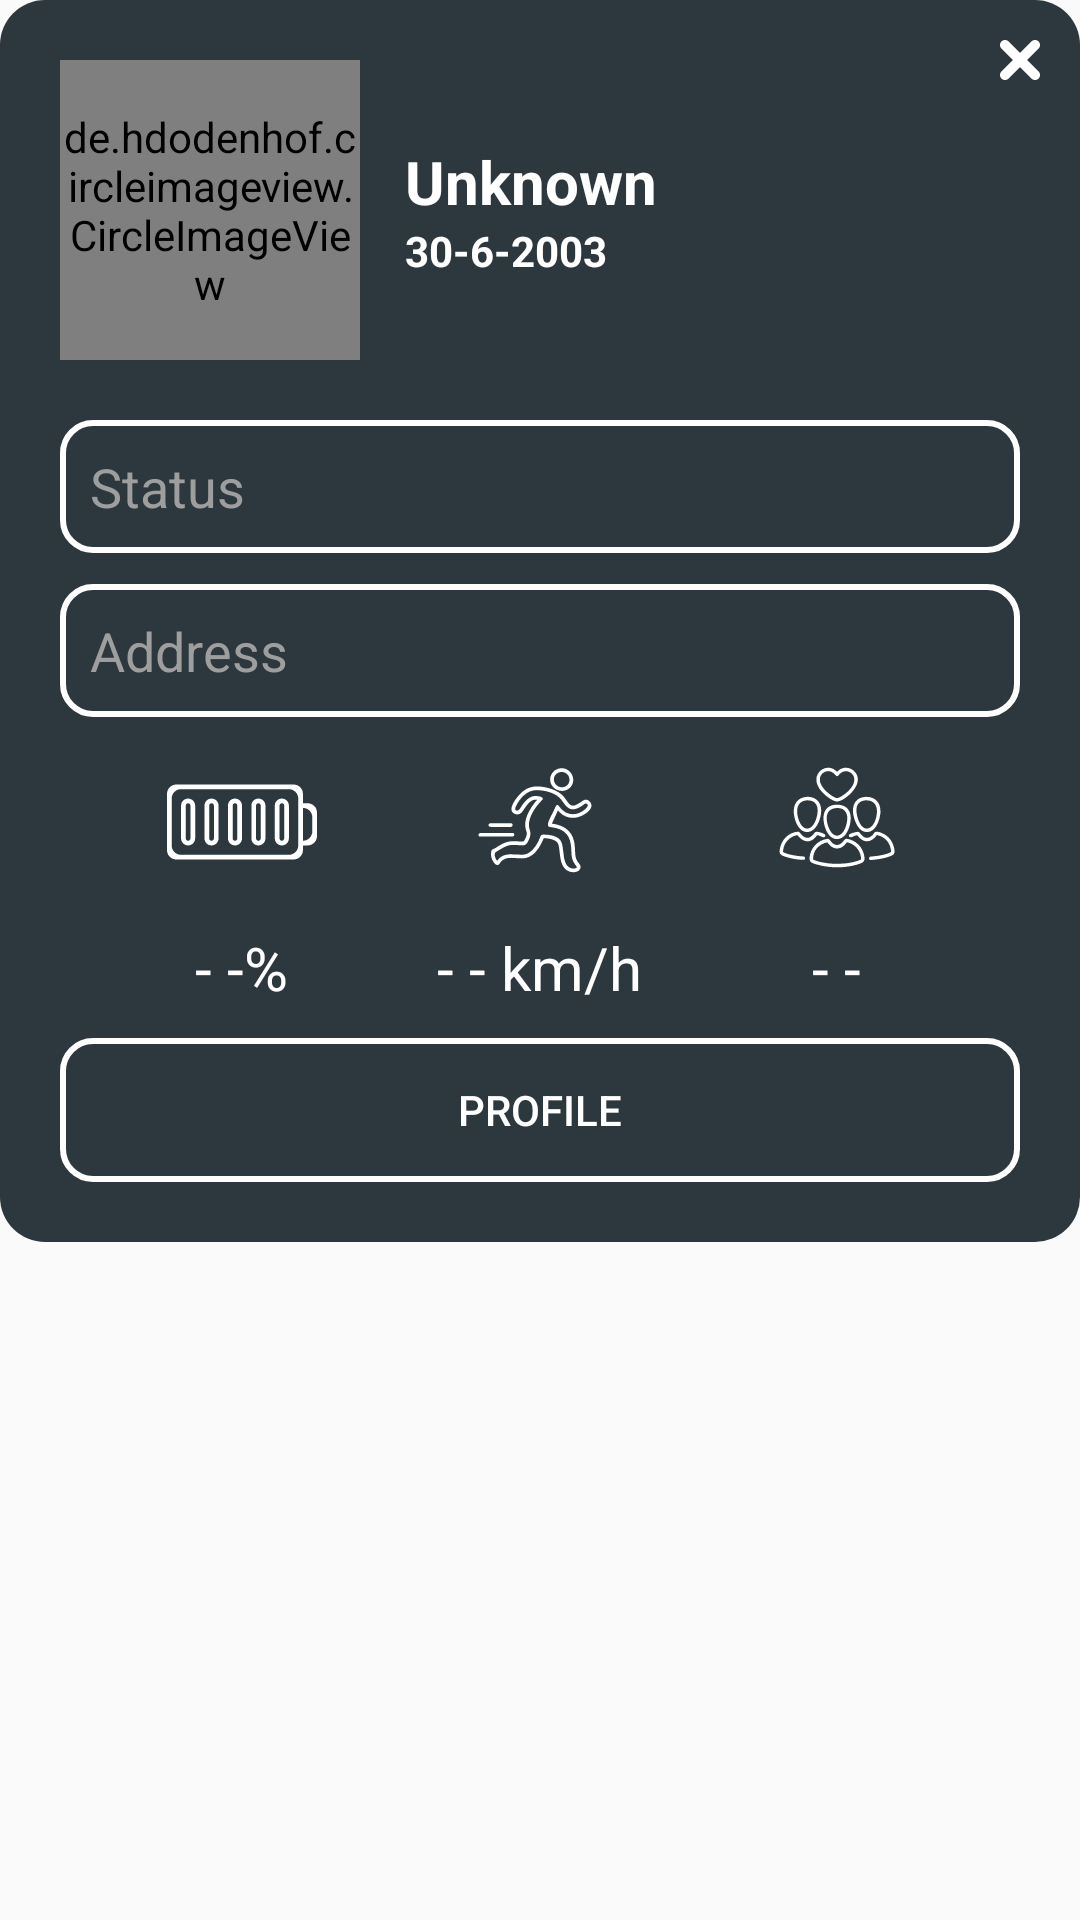

Where icons sit on this 1080px x 1920px app screen, as (x1, y1, x2, y2):
battery: (167, 784, 317, 860)
friends: (779, 767, 895, 868)
run: (478, 768, 592, 873)
